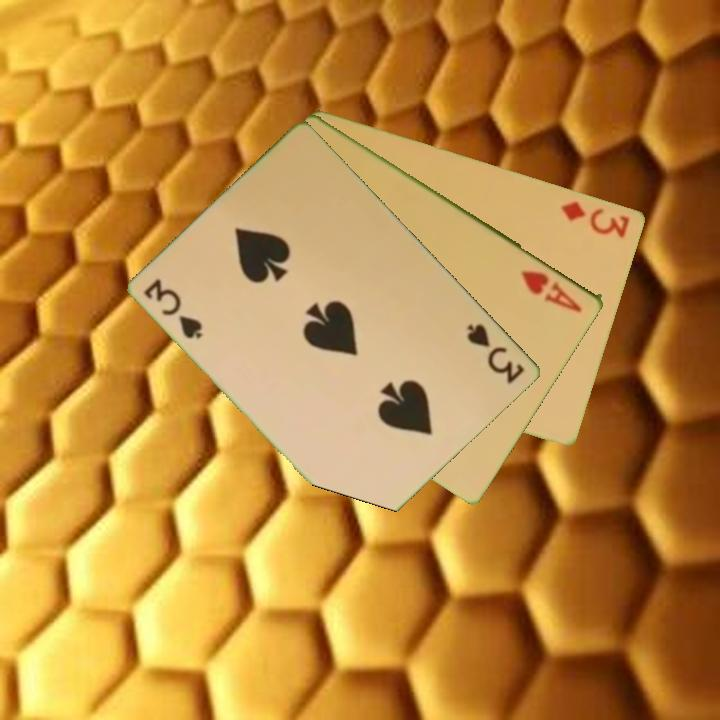3d: (557, 197, 633, 241)
3s: (141, 275, 206, 342), (464, 320, 528, 387)
Ah: (518, 266, 586, 316)
